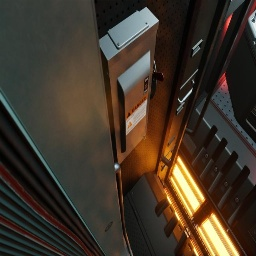SafetySwitchPanel ,: (99, 7, 164, 164)
